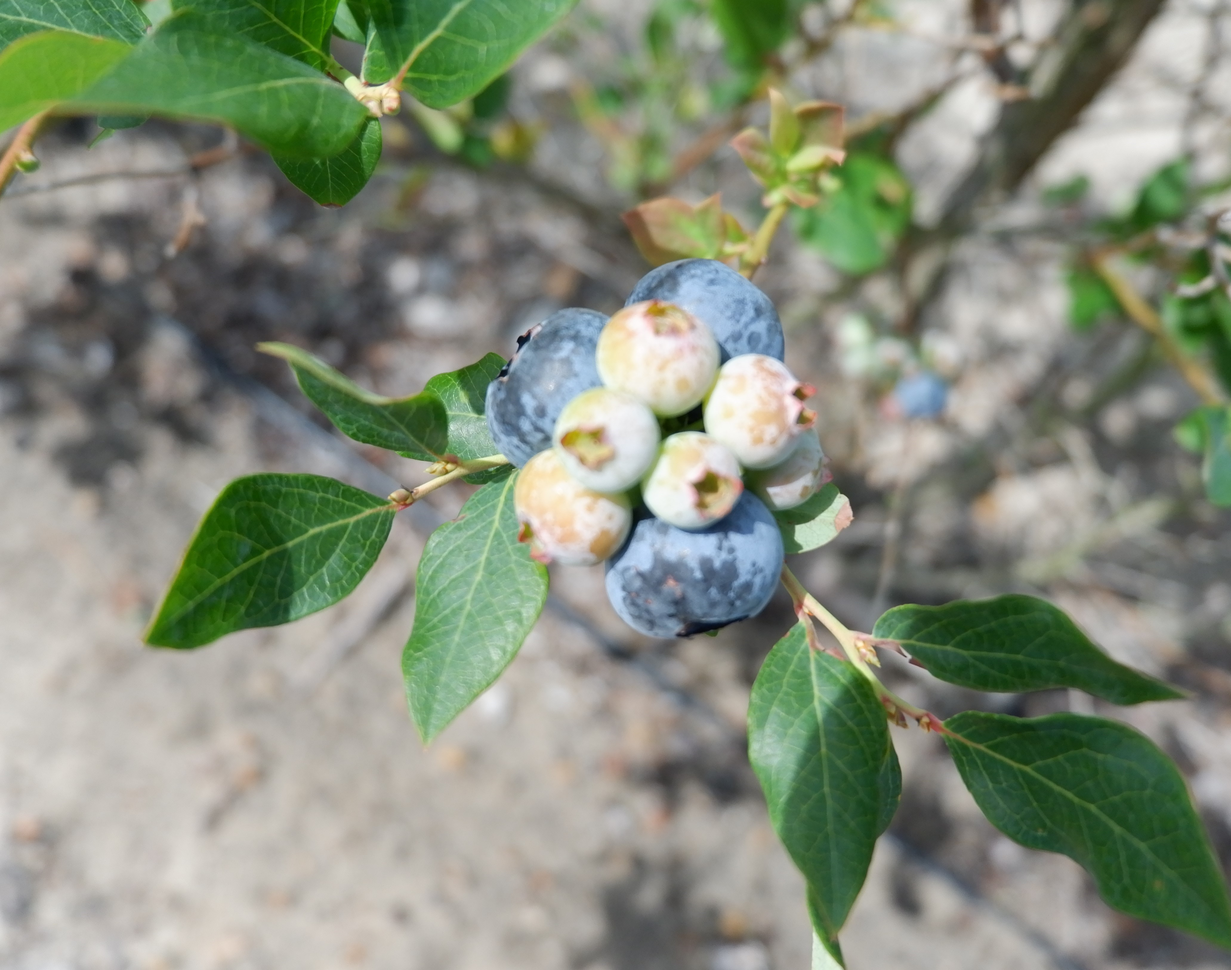Immature: (599, 302, 717, 411), (519, 453, 629, 565), (704, 357, 814, 465), (556, 390, 660, 490), (643, 433, 742, 527), (746, 434, 829, 507)
Mature: (607, 494, 779, 637), (486, 310, 605, 463), (632, 260, 781, 360)
